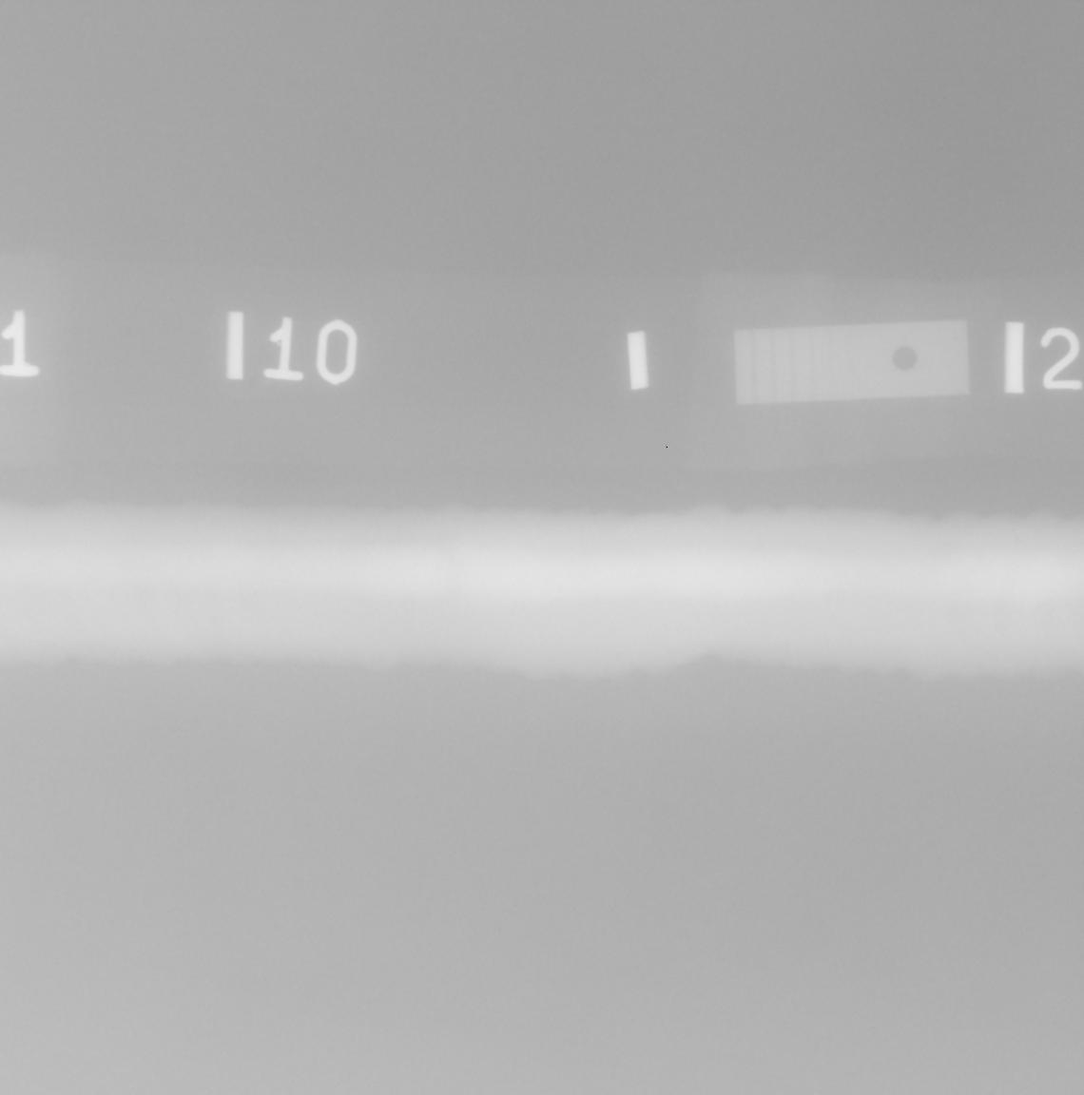Pore/Porosity: (1015, 535, 1020, 541)
Reference Standard 1: (735, 319, 970, 405)
